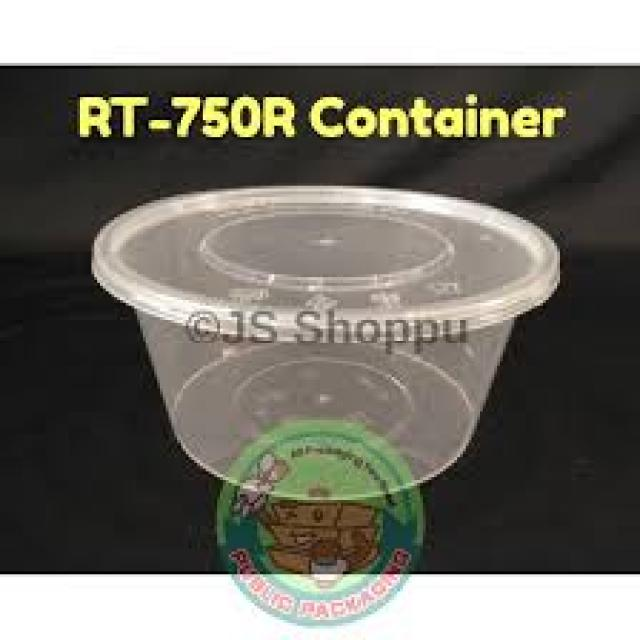disposable: (102, 172, 568, 502)
